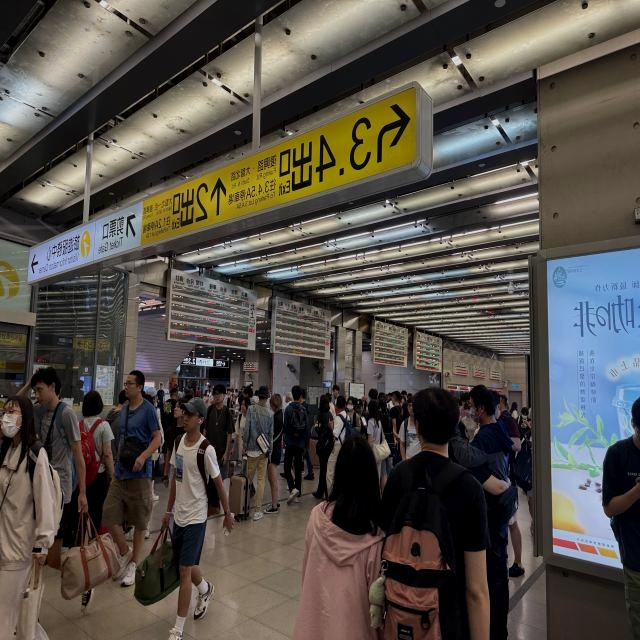Sin_Casco_Mascarrilla: (412, 387, 459, 445), (335, 438, 375, 494), (2, 395, 32, 441), (180, 398, 207, 433), (124, 370, 144, 401), (82, 391, 103, 419), (213, 384, 226, 403)
